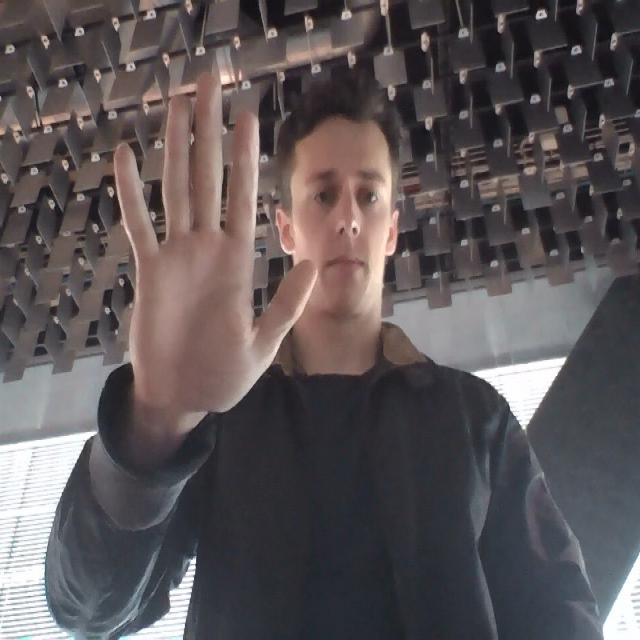backward: (78, 51, 328, 416)
